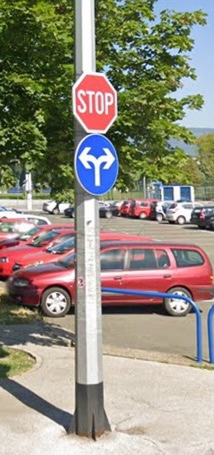Obavezno zaustavljanje: (72, 72, 116, 134)
